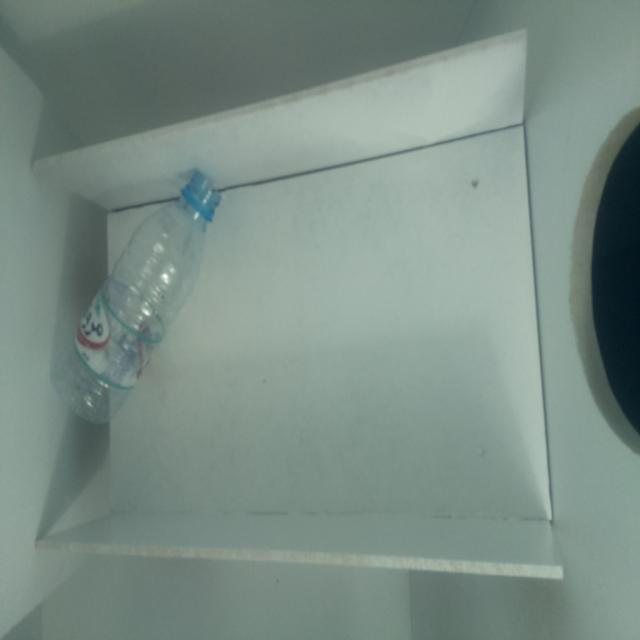Anorganik: (62, 162, 230, 412)
